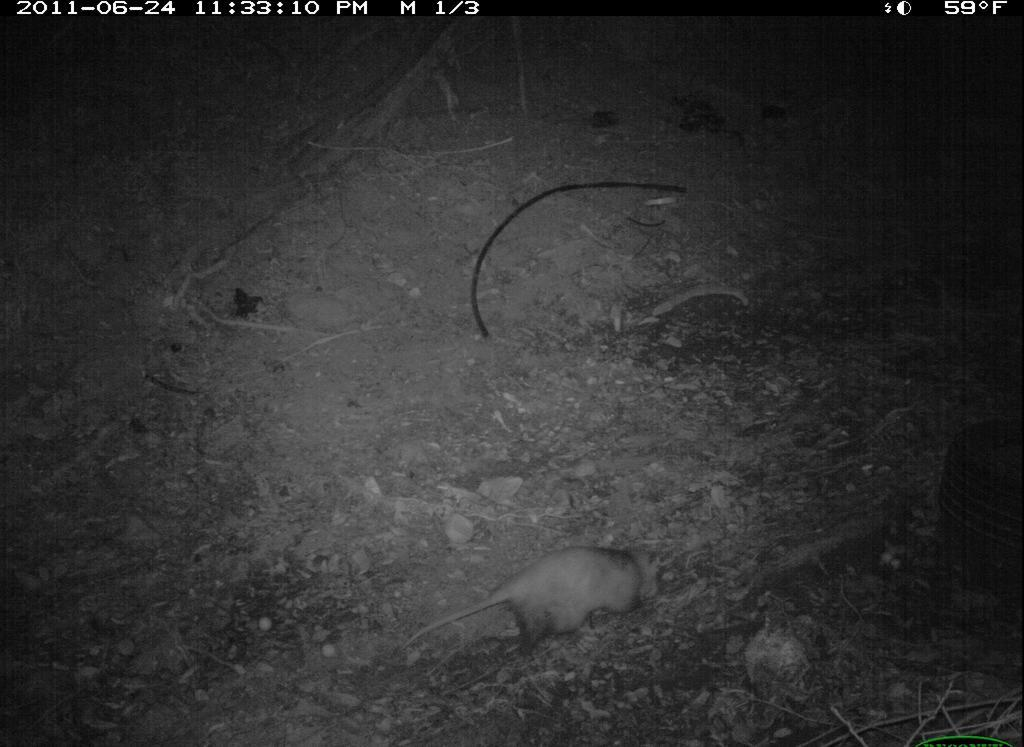opossum: (410, 533, 679, 658)
